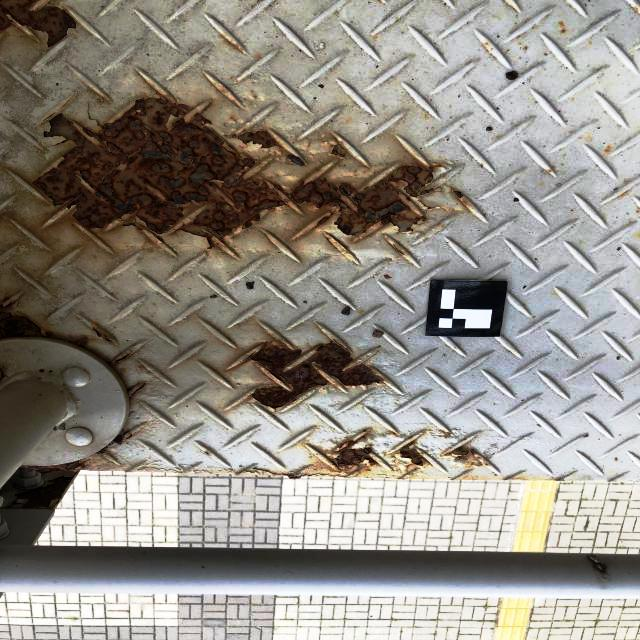Corrosion: (32, 98, 287, 236), (288, 164, 433, 234), (252, 342, 383, 409), (13, 459, 91, 509), (0, 0, 76, 45), (334, 431, 378, 472), (0, 312, 48, 338), (230, 130, 284, 149), (442, 446, 483, 468), (395, 445, 430, 467), (403, 185, 437, 201), (330, 135, 348, 160), (91, 325, 113, 343), (128, 383, 149, 397), (92, 443, 113, 457), (113, 352, 134, 364), (392, 242, 406, 256), (452, 190, 467, 200), (73, 336, 87, 346), (124, 432, 134, 441)
